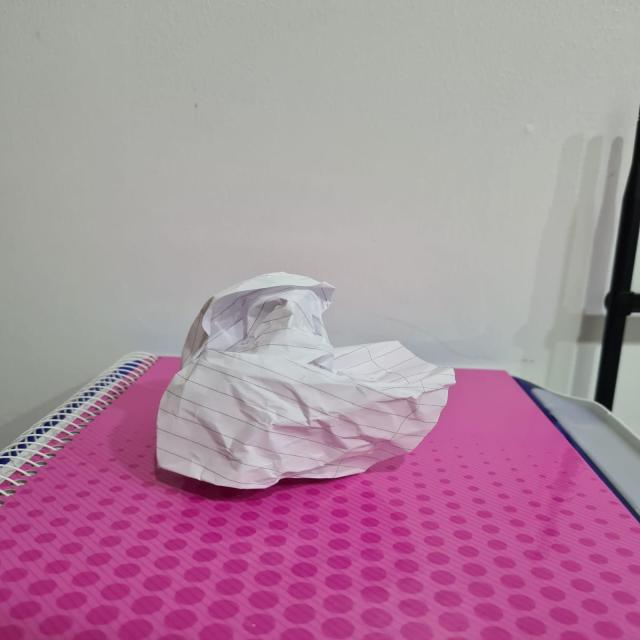trash: (171, 284, 443, 468)
